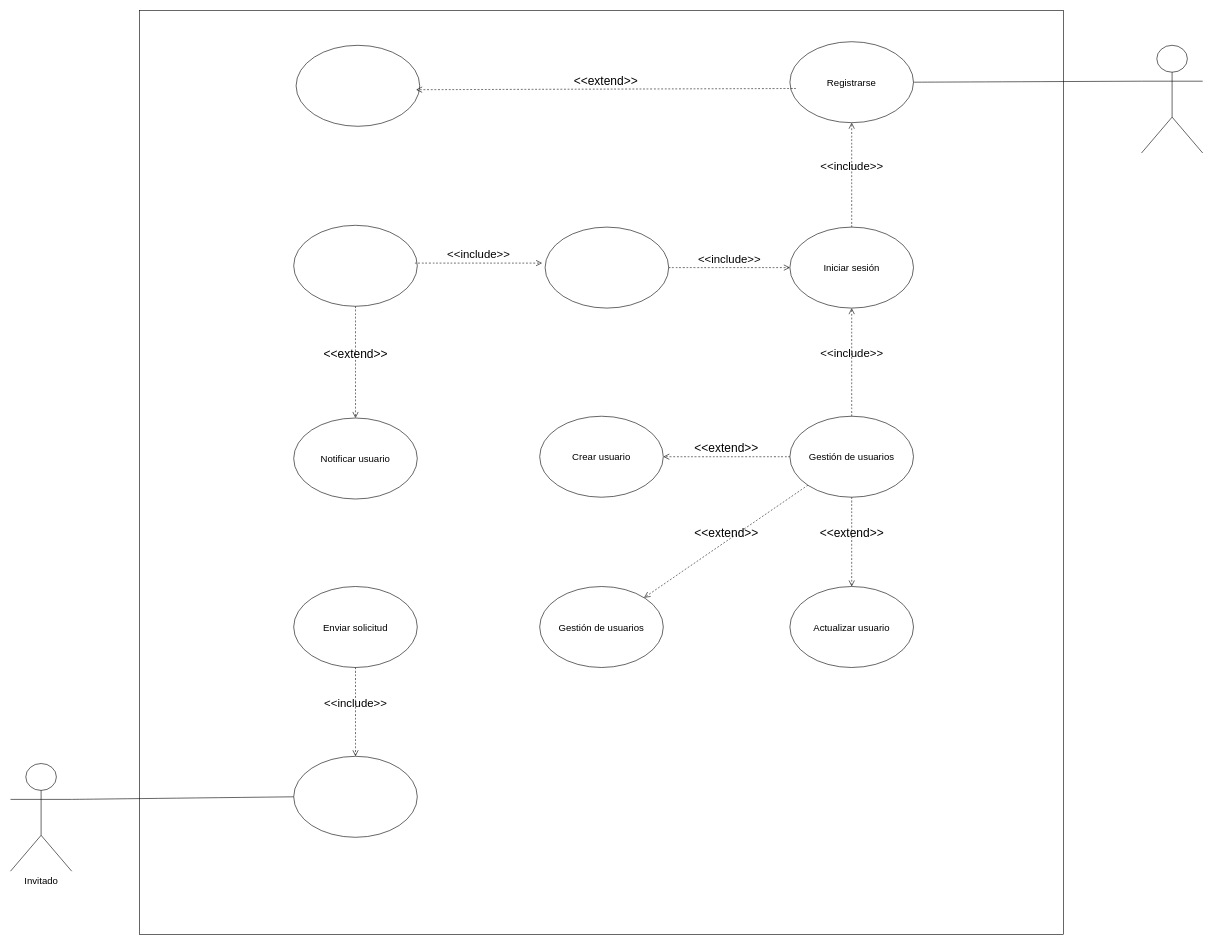
Image size: 1213x945. Some labels were removed from this diagram. The centre of each missing label's shape, as x and y in pixels:
Administrador: point (1172, 99)
Leer QR: point (355, 796)
Recibir solicitud: point (606, 267)
Recuperar contraseña: point (358, 85)
Responder solicitud: point (355, 265)
